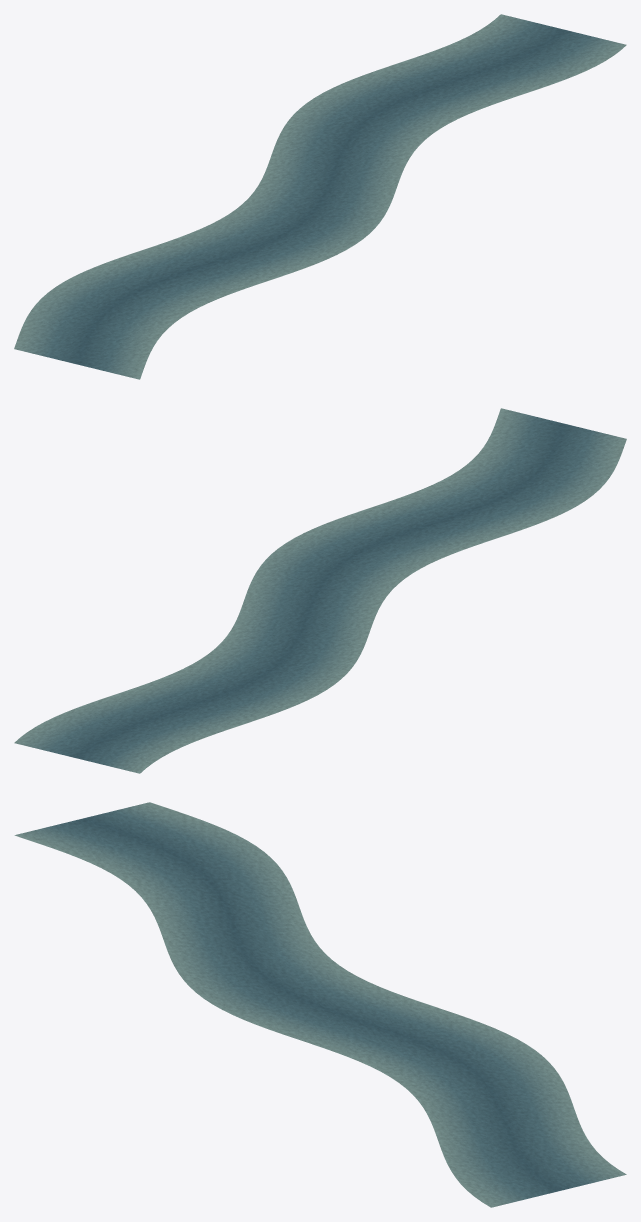
The model's file is river.glb.
3 renders of one model, top to bottom at view 1: azimuth 30°, elevation 25°; view 2: azimuth 210°, elevation 25°; view 3: azimuth 270°, elevation 25°, orthographic. The views are drawn at different scales.
Parts seen in each view (by area): view 1: River; view 2: River; view 3: River.
Part boxes in pixels (<box>): River: <box>14,14,626,379</box>; River: <box>14,408,626,773</box>; River: <box>14,802,626,1207</box>.
Size of the model in its own units: 66.39 by 0 by 42.4.
Materials: 1 (1 with a texture image).
